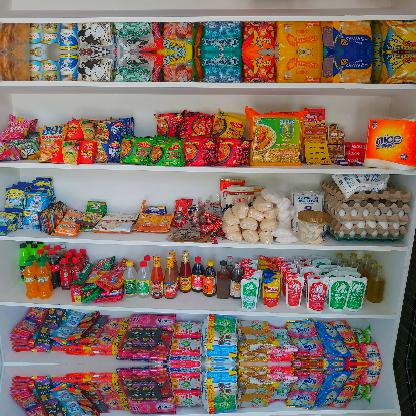Lady-s-Choice: (297, 210, 329, 244)
